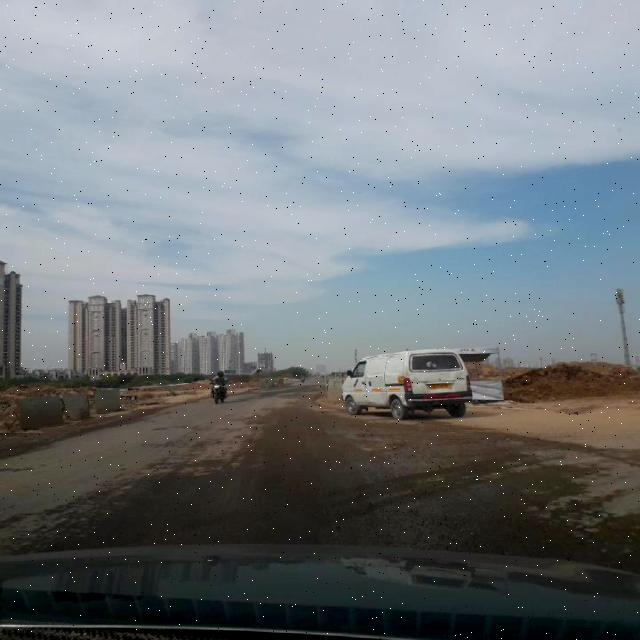D20: (23, 440, 194, 540)
